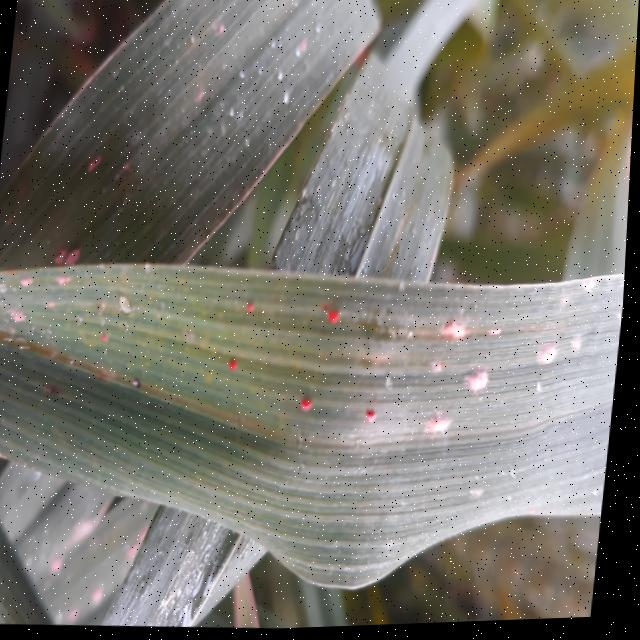orang_rust: (209, 272, 397, 454), (0, 306, 121, 434)
powder_mildew: (0, 0, 265, 311), (397, 248, 629, 506), (31, 511, 160, 631)
